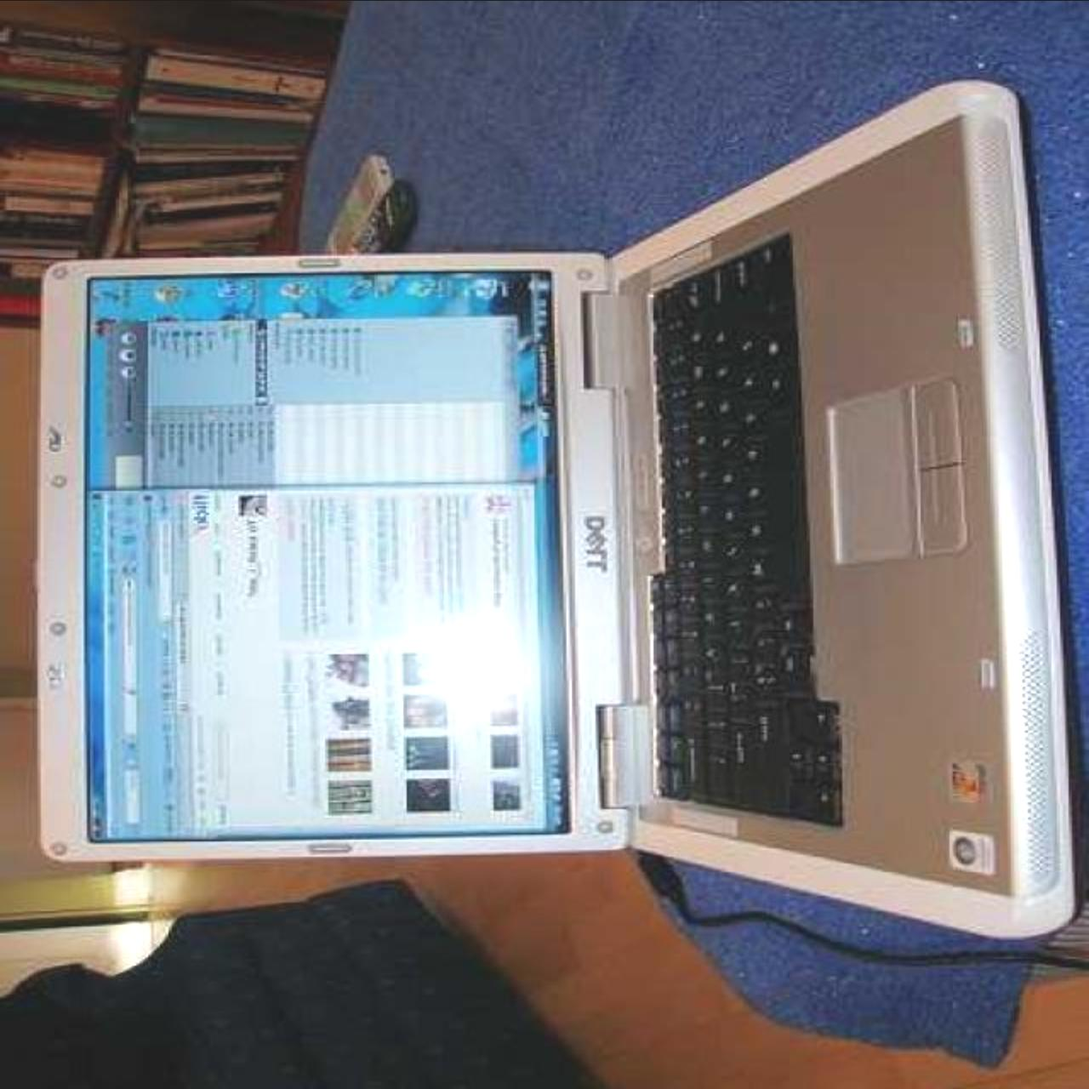laptop: (20, 111, 1052, 978)
